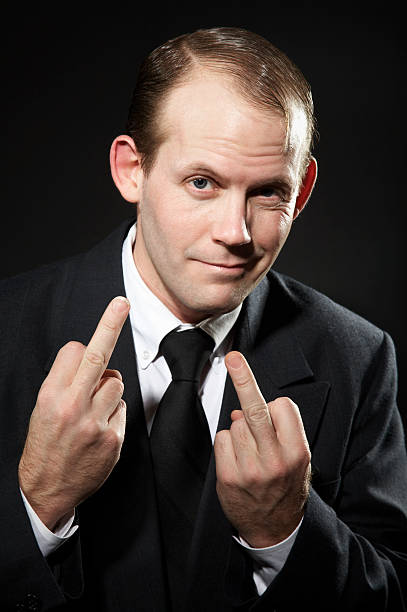insulting_gesture: (13, 293, 136, 517), (213, 350, 312, 537)
